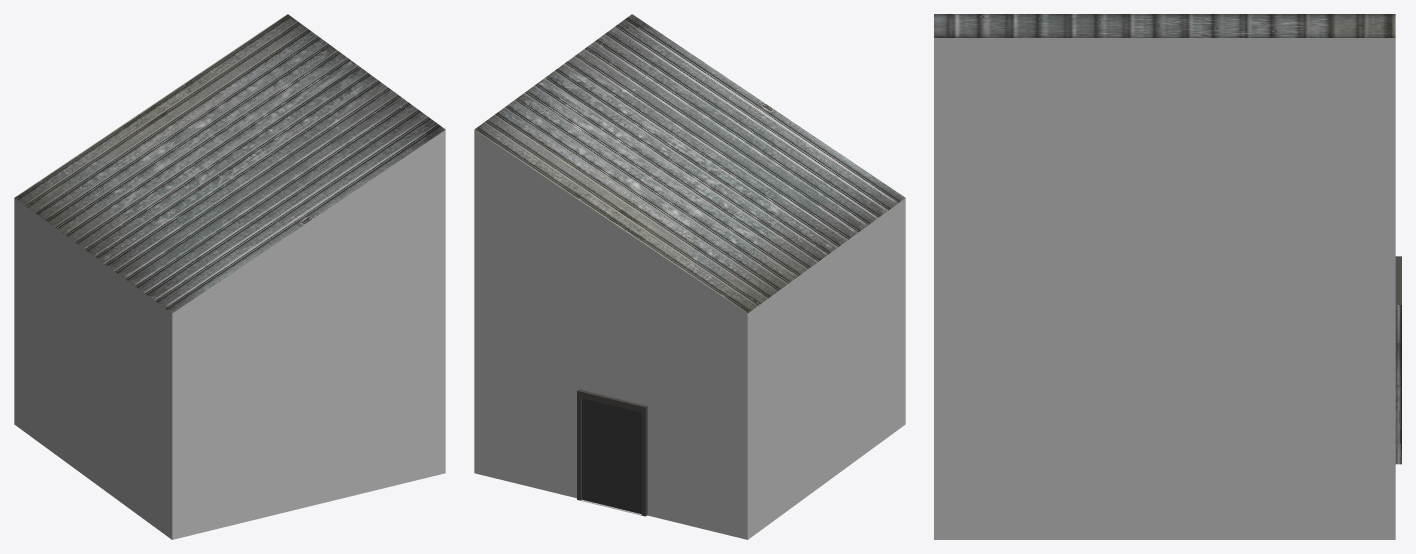
The model's file is komischeshaus.fbx.
3 renders of one model, left to right at view 1: azimuth 30°, elevation 25°; view 2: azimuth 150°, elevation 25°; view 3: azimuth 270°, elevation 25°, orthographic. The views are drawn at different scales.
Visible parts, largest first — view 1: Cube; view 2: Cube; view 3: Cube.
Part boxes in pixels (bbox=[...]): Cube: bbox=[14, 14, 445, 539]; Cube: bbox=[474, 14, 905, 539]; Cube: bbox=[934, 14, 1401, 539].
Bounding box in the file's own units: 200 × 240 × 203.
